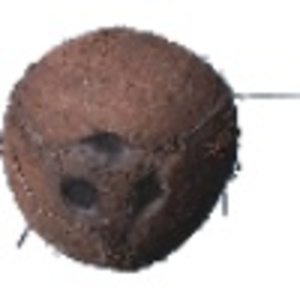coco: (1, 28, 294, 271)
